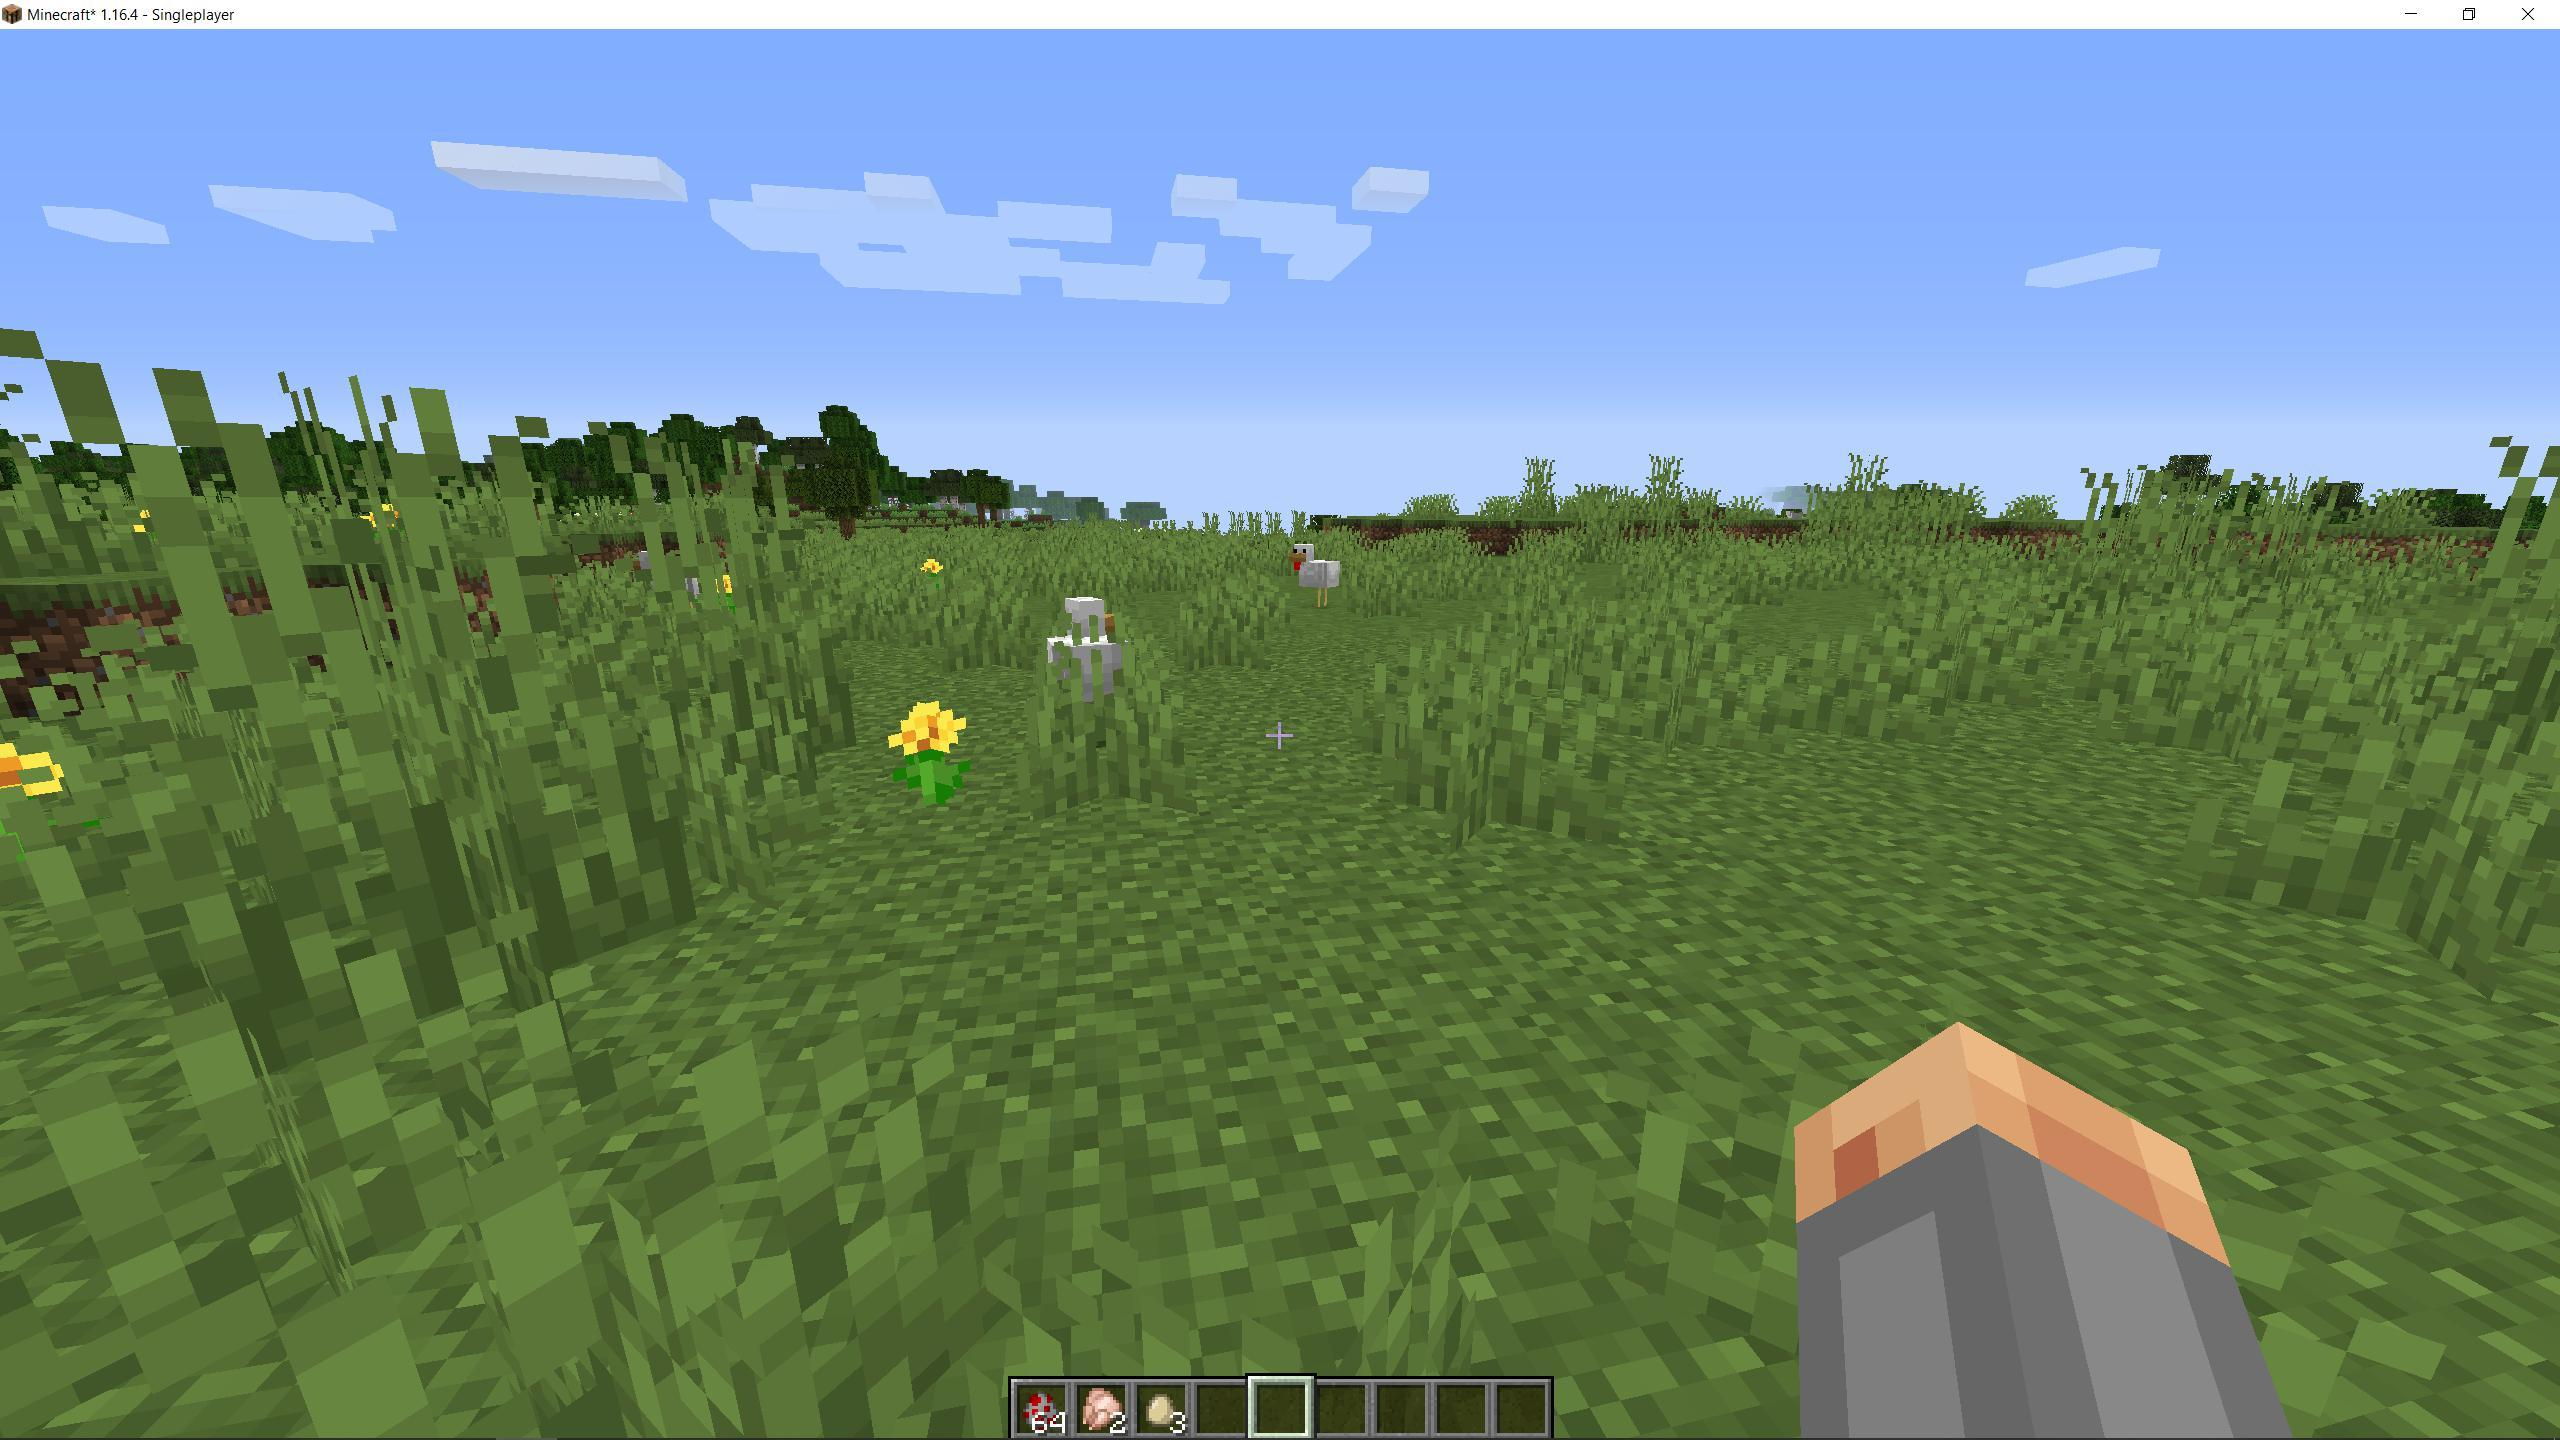chicken: (1041, 582, 1150, 723), (1276, 542, 1361, 624)
